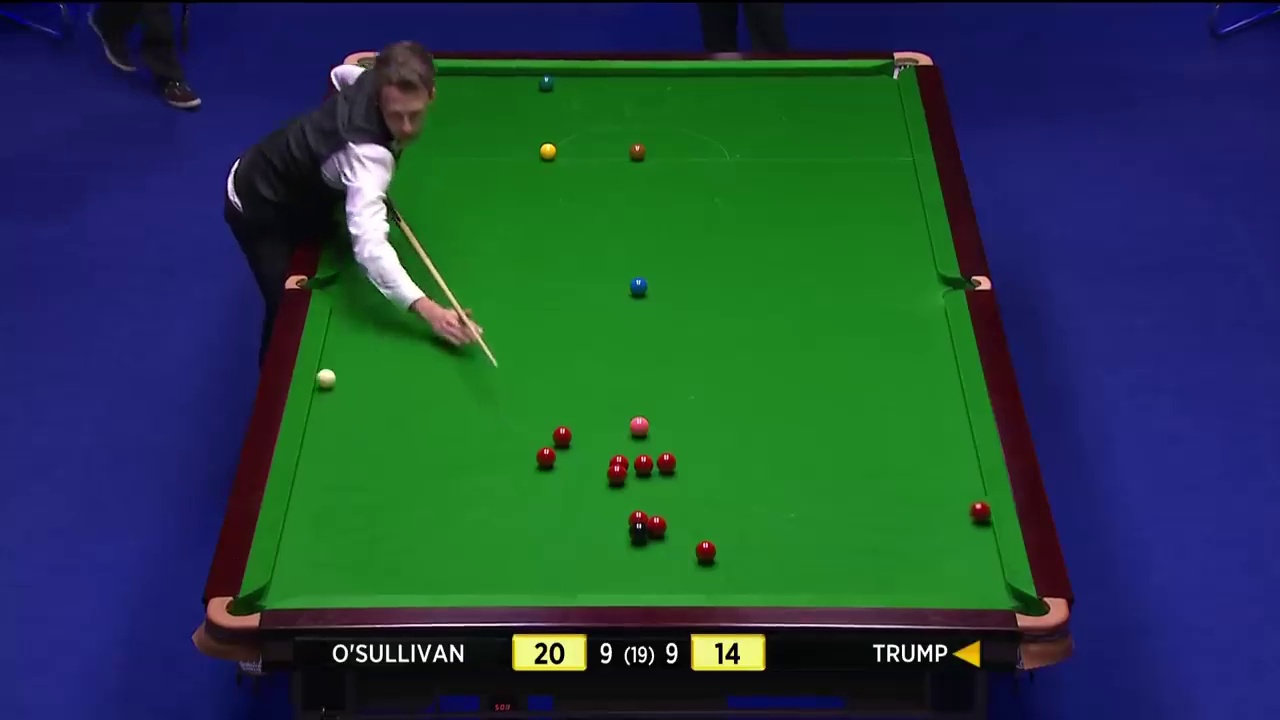ball: (630, 415, 651, 439), (695, 540, 716, 564), (533, 447, 555, 469), (633, 455, 655, 475), (553, 426, 574, 445), (628, 278, 647, 298), (656, 454, 676, 473), (539, 140, 557, 159), (628, 141, 646, 159), (537, 75, 553, 91)
